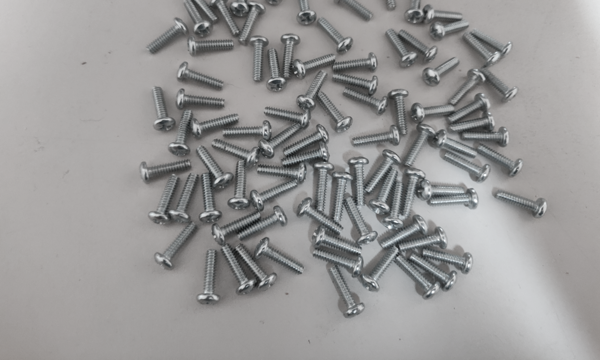shortscrew: (154, 221, 198, 271), (394, 255, 442, 300), (234, 244, 277, 293), (254, 238, 305, 277), (409, 253, 458, 293), (330, 266, 365, 319), (297, 198, 344, 237), (211, 212, 264, 246), (222, 245, 257, 296), (237, 206, 288, 241), (379, 215, 429, 250), (362, 246, 399, 293), (148, 174, 181, 226), (364, 150, 402, 194), (344, 197, 378, 246), (476, 144, 524, 178), (146, 17, 189, 54), (313, 226, 362, 258), (169, 173, 199, 225), (317, 92, 354, 134), (495, 190, 548, 219), (313, 248, 364, 278), (443, 152, 492, 183), (284, 124, 330, 157), (258, 124, 300, 160), (211, 139, 260, 169), (463, 32, 502, 69), (404, 124, 436, 168), (449, 69, 486, 107), (177, 61, 225, 90), (317, 18, 354, 55), (480, 68, 519, 103), (297, 70, 328, 114), (197, 250, 221, 306), (343, 87, 389, 116), (398, 30, 438, 63), (448, 94, 490, 125), (423, 248, 473, 274), (169, 109, 196, 157), (435, 130, 478, 160), (370, 168, 398, 214), (386, 28, 418, 68), (140, 160, 191, 185), (471, 28, 513, 58), (190, 112, 240, 137), (398, 227, 449, 251), (238, 1, 266, 44), (227, 161, 251, 210), (199, 173, 222, 224), (282, 142, 330, 166), (222, 120, 272, 143), (423, 57, 461, 87), (183, 0, 213, 38), (176, 88, 225, 111), (210, 0, 241, 36), (348, 157, 370, 206), (293, 55, 336, 80), (332, 172, 353, 223), (333, 73, 379, 96), (153, 87, 176, 133), (383, 183, 405, 231), (429, 189, 479, 210), (314, 163, 335, 213), (264, 107, 311, 129), (188, 35, 234, 57), (353, 126, 401, 147), (462, 127, 510, 148), (411, 103, 455, 125), (333, 52, 378, 73), (418, 181, 465, 201), (183, 0, 220, 25), (389, 90, 409, 136), (450, 113, 496, 133), (266, 49, 287, 92), (430, 20, 470, 42), (282, 34, 301, 79), (251, 35, 269, 82), (333, 0, 373, 21), (425, 4, 463, 25), (296, 0, 317, 26), (405, 0, 424, 25), (230, 0, 254, 17), (376, 0, 397, 11), (264, 0, 289, 7)
